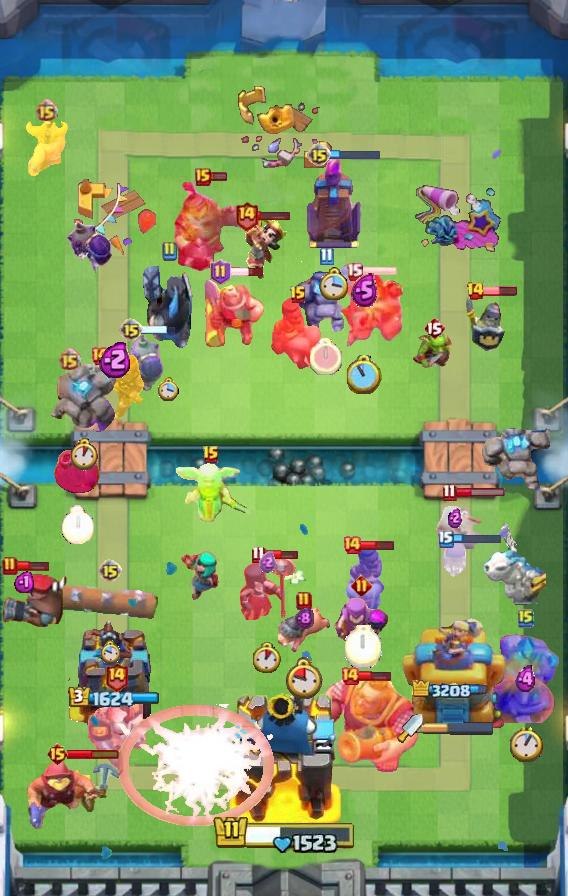bandit: (431, 497, 485, 549)
bar: (67, 748, 120, 760), (451, 533, 503, 545), (329, 149, 381, 160), (455, 487, 506, 498), (228, 266, 265, 278), (361, 265, 398, 277), (482, 285, 518, 297), (360, 539, 395, 551), (358, 670, 391, 682), (16, 560, 49, 572), (263, 549, 299, 560), (141, 324, 176, 335), (256, 210, 291, 221), (209, 171, 228, 182)
bar-level: (104, 661, 129, 692), (234, 200, 259, 231), (98, 559, 122, 583), (119, 318, 143, 342), (307, 143, 331, 167), (46, 742, 69, 766), (210, 259, 231, 285), (58, 348, 81, 371), (35, 99, 58, 122), (423, 316, 445, 340), (351, 575, 372, 596), (340, 666, 360, 686), (342, 535, 362, 555), (90, 346, 110, 366), (466, 281, 485, 301), (202, 445, 220, 465), (289, 285, 307, 305), (346, 262, 363, 281), (518, 608, 534, 628), (296, 591, 312, 611), (2, 556, 18, 576), (161, 241, 177, 261), (438, 530, 454, 548), (195, 168, 211, 186), (251, 545, 266, 564), (442, 483, 457, 502), (319, 247, 334, 266)
bomb: (51, 445, 103, 499)
bomber-evolution: (67, 219, 113, 277), (126, 326, 164, 394)
clock: (345, 625, 382, 668), (286, 657, 323, 699), (347, 355, 382, 394), (61, 505, 94, 544), (510, 726, 543, 762), (310, 338, 342, 375), (69, 438, 100, 471), (319, 267, 349, 300), (253, 642, 281, 673), (158, 376, 180, 401), (100, 640, 120, 665)
dagger-duchess-tower: (401, 615, 506, 731)
dagger-duchess-tower-bar: (423, 721, 495, 735)
elite-barbarian: (24, 120, 68, 176)
elixir: (99, 340, 133, 378), (351, 273, 378, 307), (515, 665, 537, 694), (14, 570, 34, 593), (295, 607, 314, 630), (259, 551, 276, 573), (448, 507, 462, 528)
goblin: (412, 328, 456, 370)
golemite: (478, 427, 550, 497), (49, 364, 119, 432), (293, 261, 359, 333)
guard: (463, 291, 511, 351)
hunter: (0, 567, 70, 629)
king-tower: (227, 688, 342, 826)
king-tower-bar: (212, 811, 356, 853)
little-prince: (240, 211, 288, 279)
mega-minion: (85, 696, 147, 774)
miner: (202, 277, 268, 347)
mother-witch: (331, 597, 391, 651)
night-witch: (237, 553, 297, 623)
queen-tower: (66, 617, 162, 731)
ram-rider: (268, 296, 328, 370), (341, 542, 385, 624)
rascal-girl: (180, 546, 220, 600)
royal-hog: (278, 605, 330, 655)
skeleton-evolution: (440, 540, 470, 578)
the-log: (57, 583, 163, 621)
tower-bar: (68, 685, 160, 709), (412, 680, 494, 702)
valkyrie-evolution: (86, 354, 146, 422)
